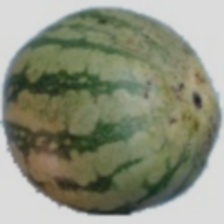watermelon: (36, 44, 217, 210)
